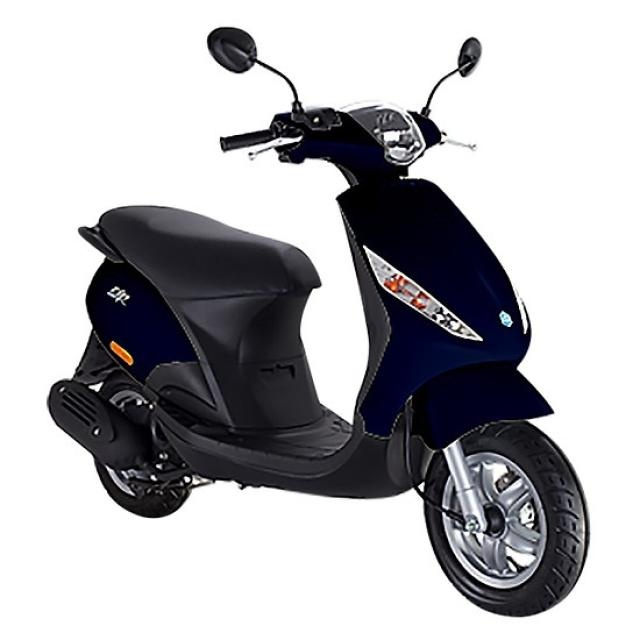Motorcycle: (51, 20, 595, 617)
